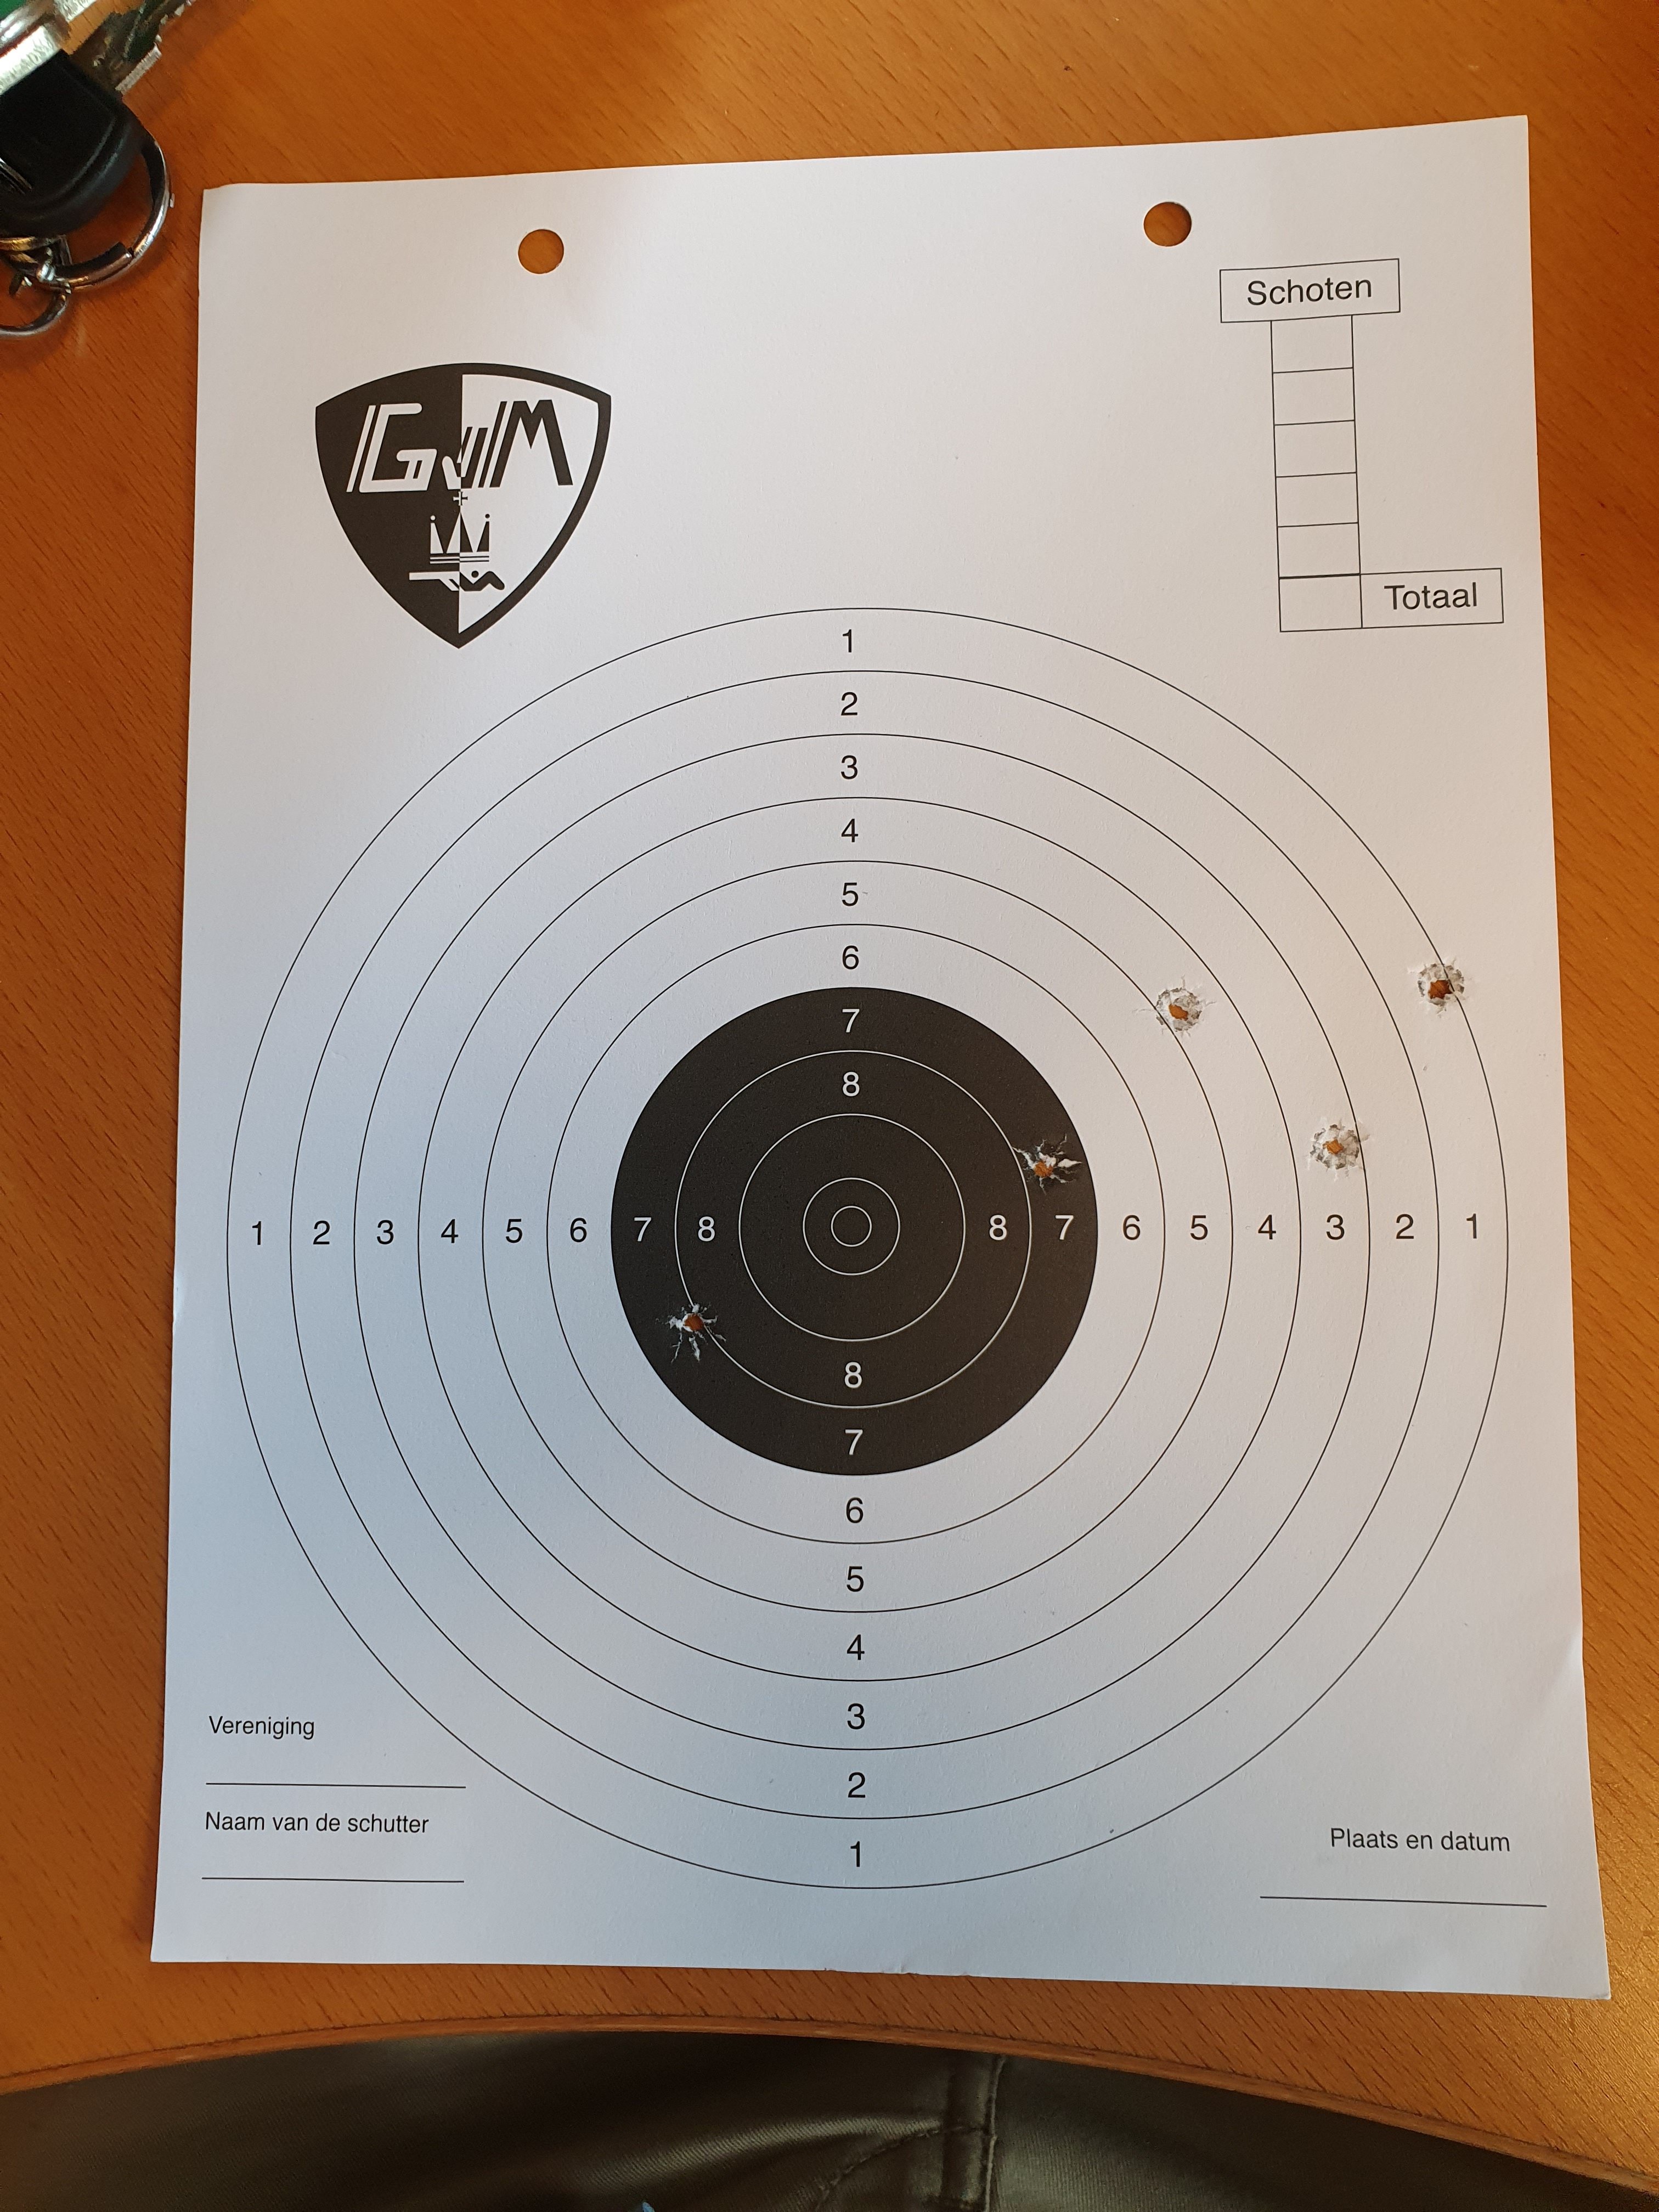center: (610, 986, 1098, 1475)
out: (225, 608, 1509, 1890)
shot: (1131, 974, 1218, 1040), (1011, 1130, 1084, 1198), (653, 1301, 727, 1366), (1304, 1115, 1373, 1181), (1406, 954, 1476, 1015)
target: (802, 1176, 901, 1277)
